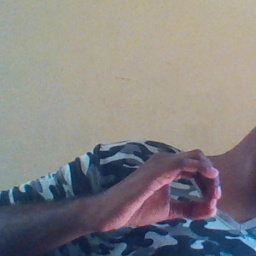O: (118, 142, 228, 235)
